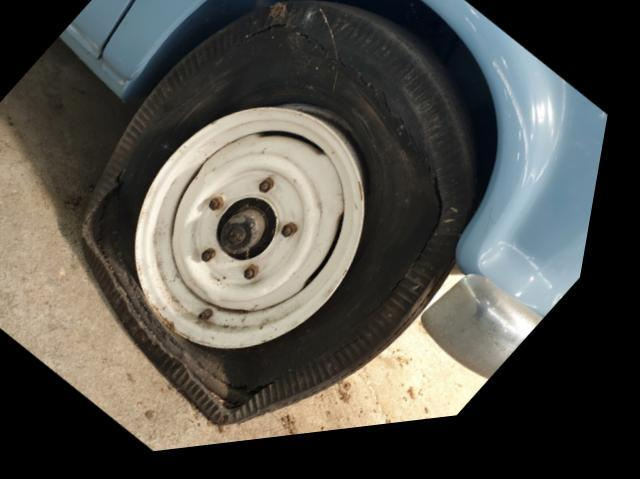tire flat: (87, 5, 500, 434)
